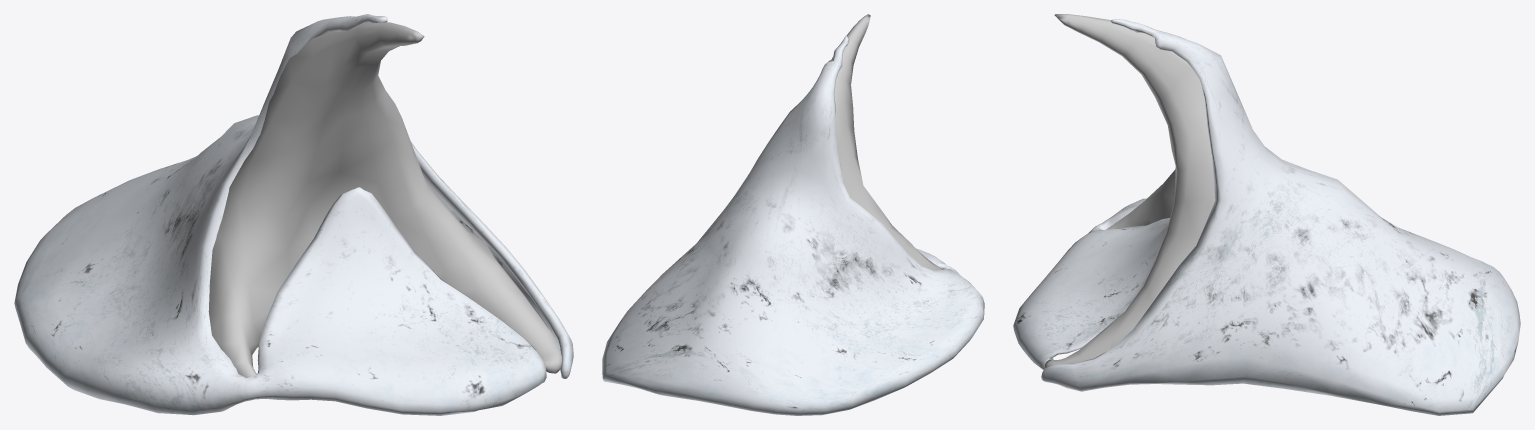
The model's file is hookey.fbx.
3 renders of one model, left to right at view 1: azimuth 30°, elevation 25°; view 2: azimuth 150°, elevation 25°; view 3: azimuth 270°, elevation 25°, orthographic. The views are drawn at different scales.
Visible parts, largest first — view 1: ZBrush_defualt_group001, hook mountain; view 2: ZBrush_defualt_group001, hook mountain; view 3: ZBrush_defualt_group001, hook mountain.
Part boxes in pixels (x1,y1,x2,y2): ZBrush_defualt_group001: (14, 14, 573, 415); hook mountain: (208, 22, 561, 377); ZBrush_defualt_group001: (602, 36, 984, 415); hook mountain: (831, 14, 942, 270); ZBrush_defualt_group001: (1013, 19, 1520, 415); hook mountain: (1044, 14, 1215, 368).
Bounding box in the file's own units: 130 × 118 × 160.
